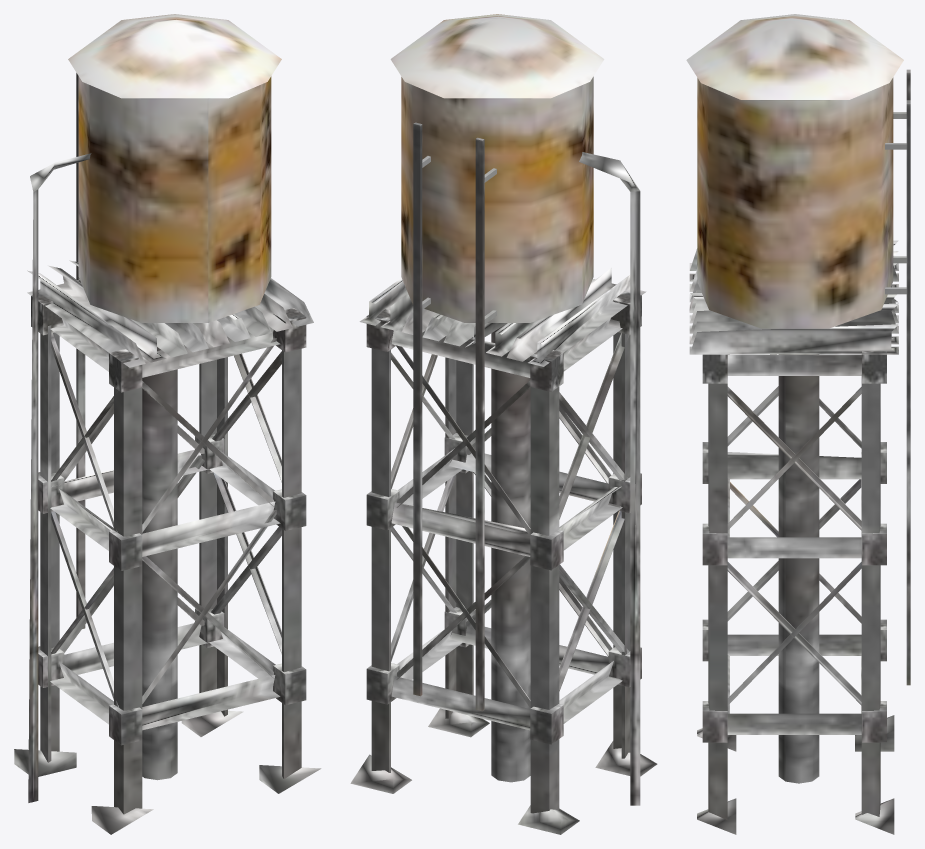
File: tank.glb
3 renders of one model, left to right at view 1: azimuth 30°, elevation 25°; view 2: azimuth 150°, elevation 25°; view 3: azimuth 270°, elevation 25°, orthographic.
Visible parts, largest first — view 1: defaultMaterial; view 2: defaultMaterial; view 3: defaultMaterial.
Part boxes in pixels (x1,y1,x2,y2): defaultMaterial: [14, 14, 321, 834]; defaultMaterial: [350, 14, 657, 834]; defaultMaterial: [686, 14, 910, 834].
Size of the model in its own units: 0.577 by 1.7 by 0.4525.
1 material, 1 textured.
